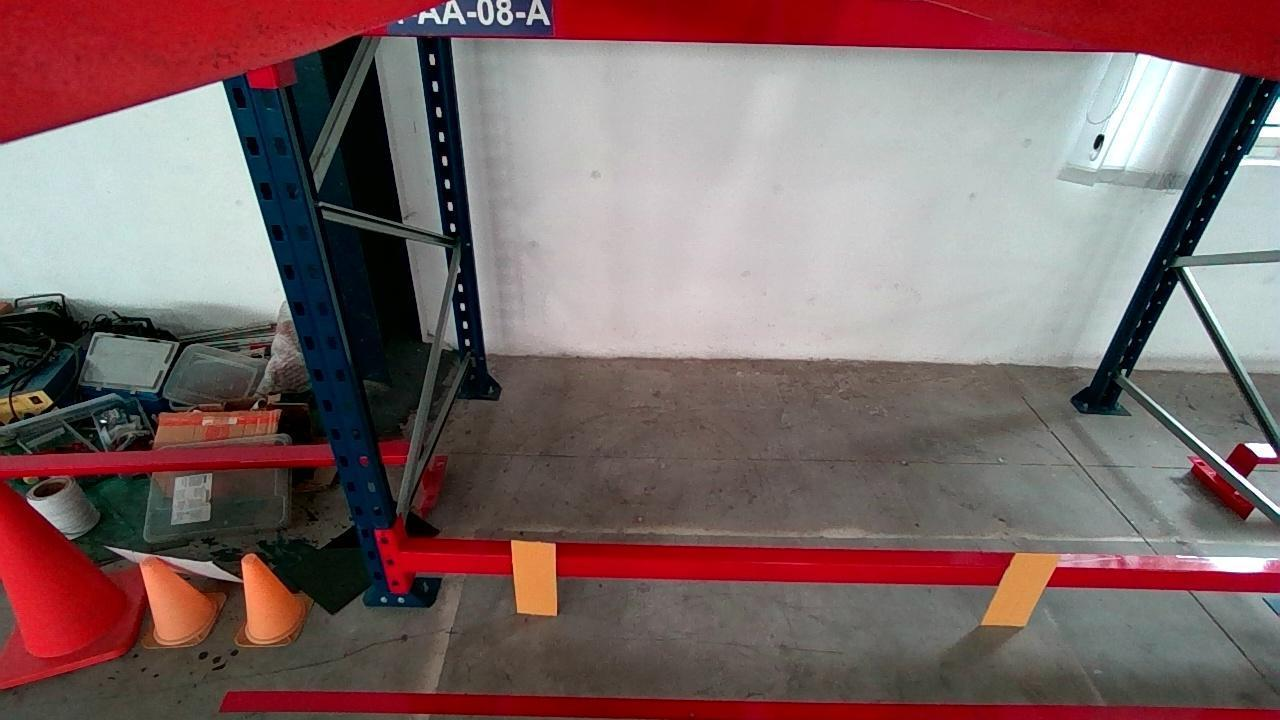h_rack: (399, 553, 1280, 595), (369, 0, 1084, 49)
orange_strip: (983, 552, 1064, 624), (509, 542, 558, 613)
red_line: (219, 689, 1280, 720)
